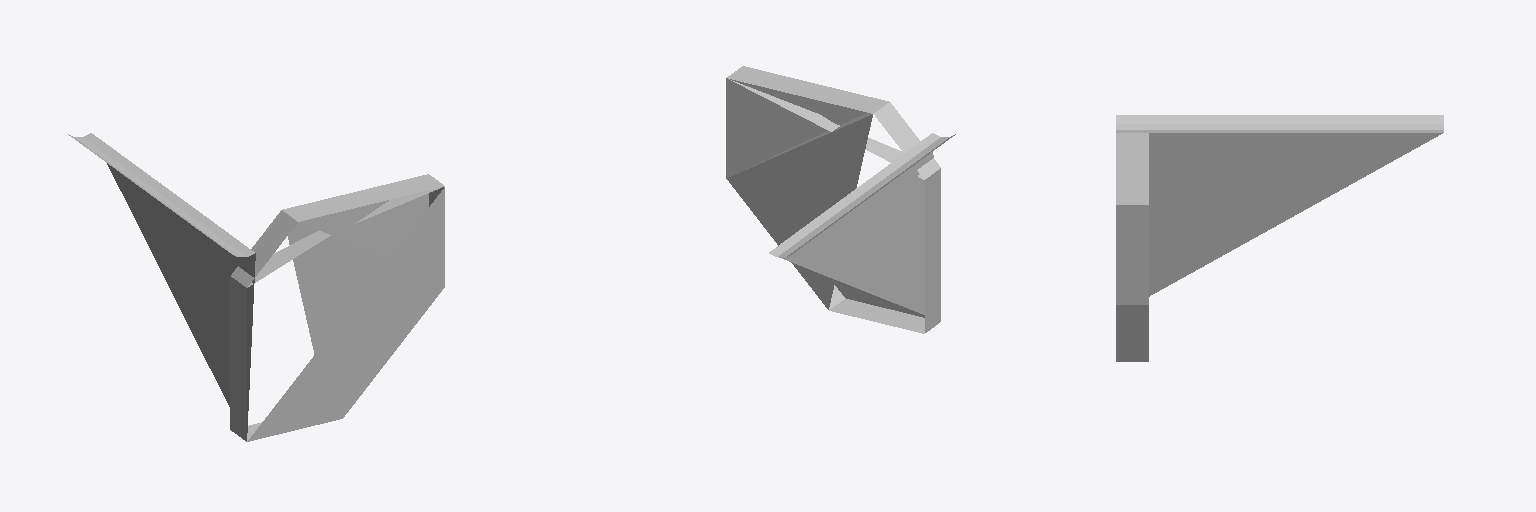
Rendered from transformador.obj.
3 views of the same model, side by side, from view 1: azimuth 30°, elevation 25°; view 2: azimuth 150°, elevation 25°; view 3: azimuth 270°, elevation 25° (orthographic).
Size of the model in its own units: 188 by 174 by 250.